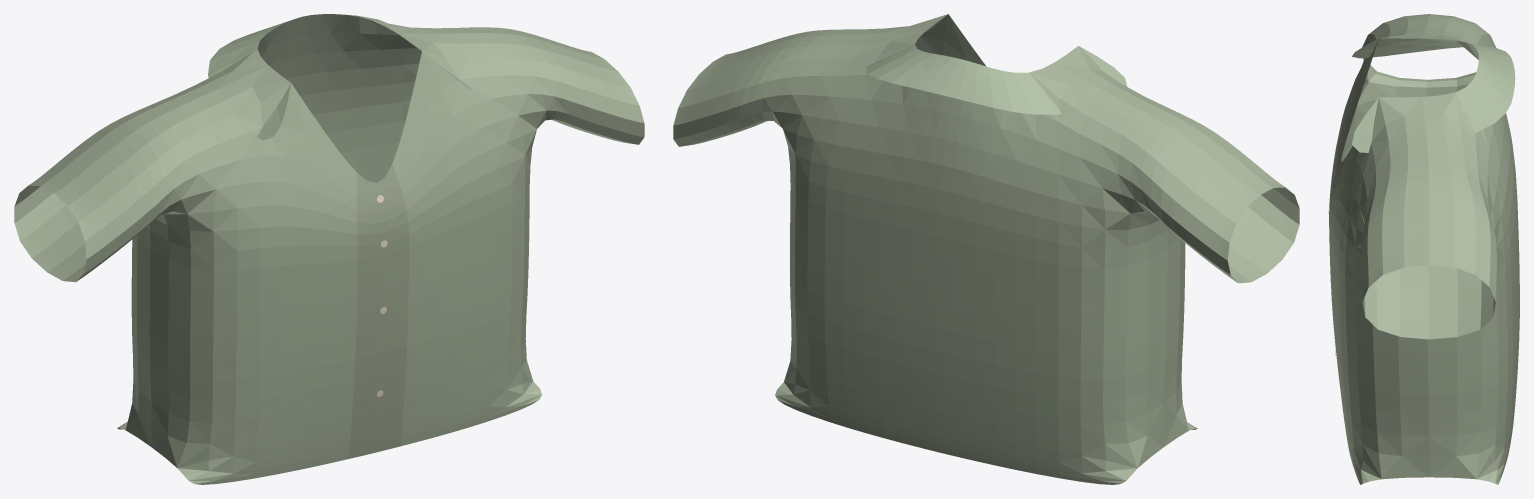
File: shirt.obj
The picture shows the model from 3 angles, left to right: view 1: azimuth 30°, elevation 25°; view 2: azimuth 150°, elevation 25°; view 3: azimuth 270°, elevation 25°; orthographic projection. The views are drawn at different scales.
Visible parts, largest first — view 1: shirt-surface; view 2: shirt-surface; view 3: shirt-surface.
Part boxes in pixels (box(x1,y1,x2,y2)): shirt-surface: box(14, 14, 644, 484); shirt-surface: box(673, 14, 1299, 484); shirt-surface: box(1329, 14, 1519, 484).
Size of the model in its own units: 2.16 by 1.4 by 0.6879.
